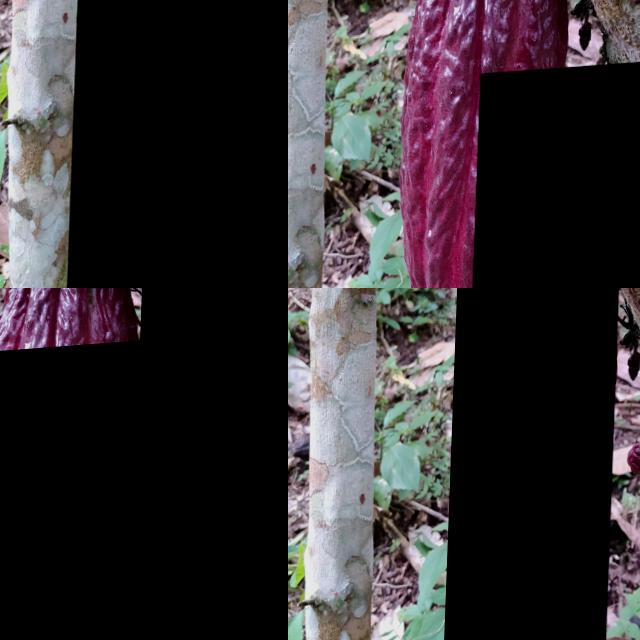Monilia: (472, 66, 640, 288)
Sana: (446, 288, 623, 640), (72, 0, 288, 288), (129, 288, 288, 640), (0, 345, 156, 640), (121, 0, 288, 195)
